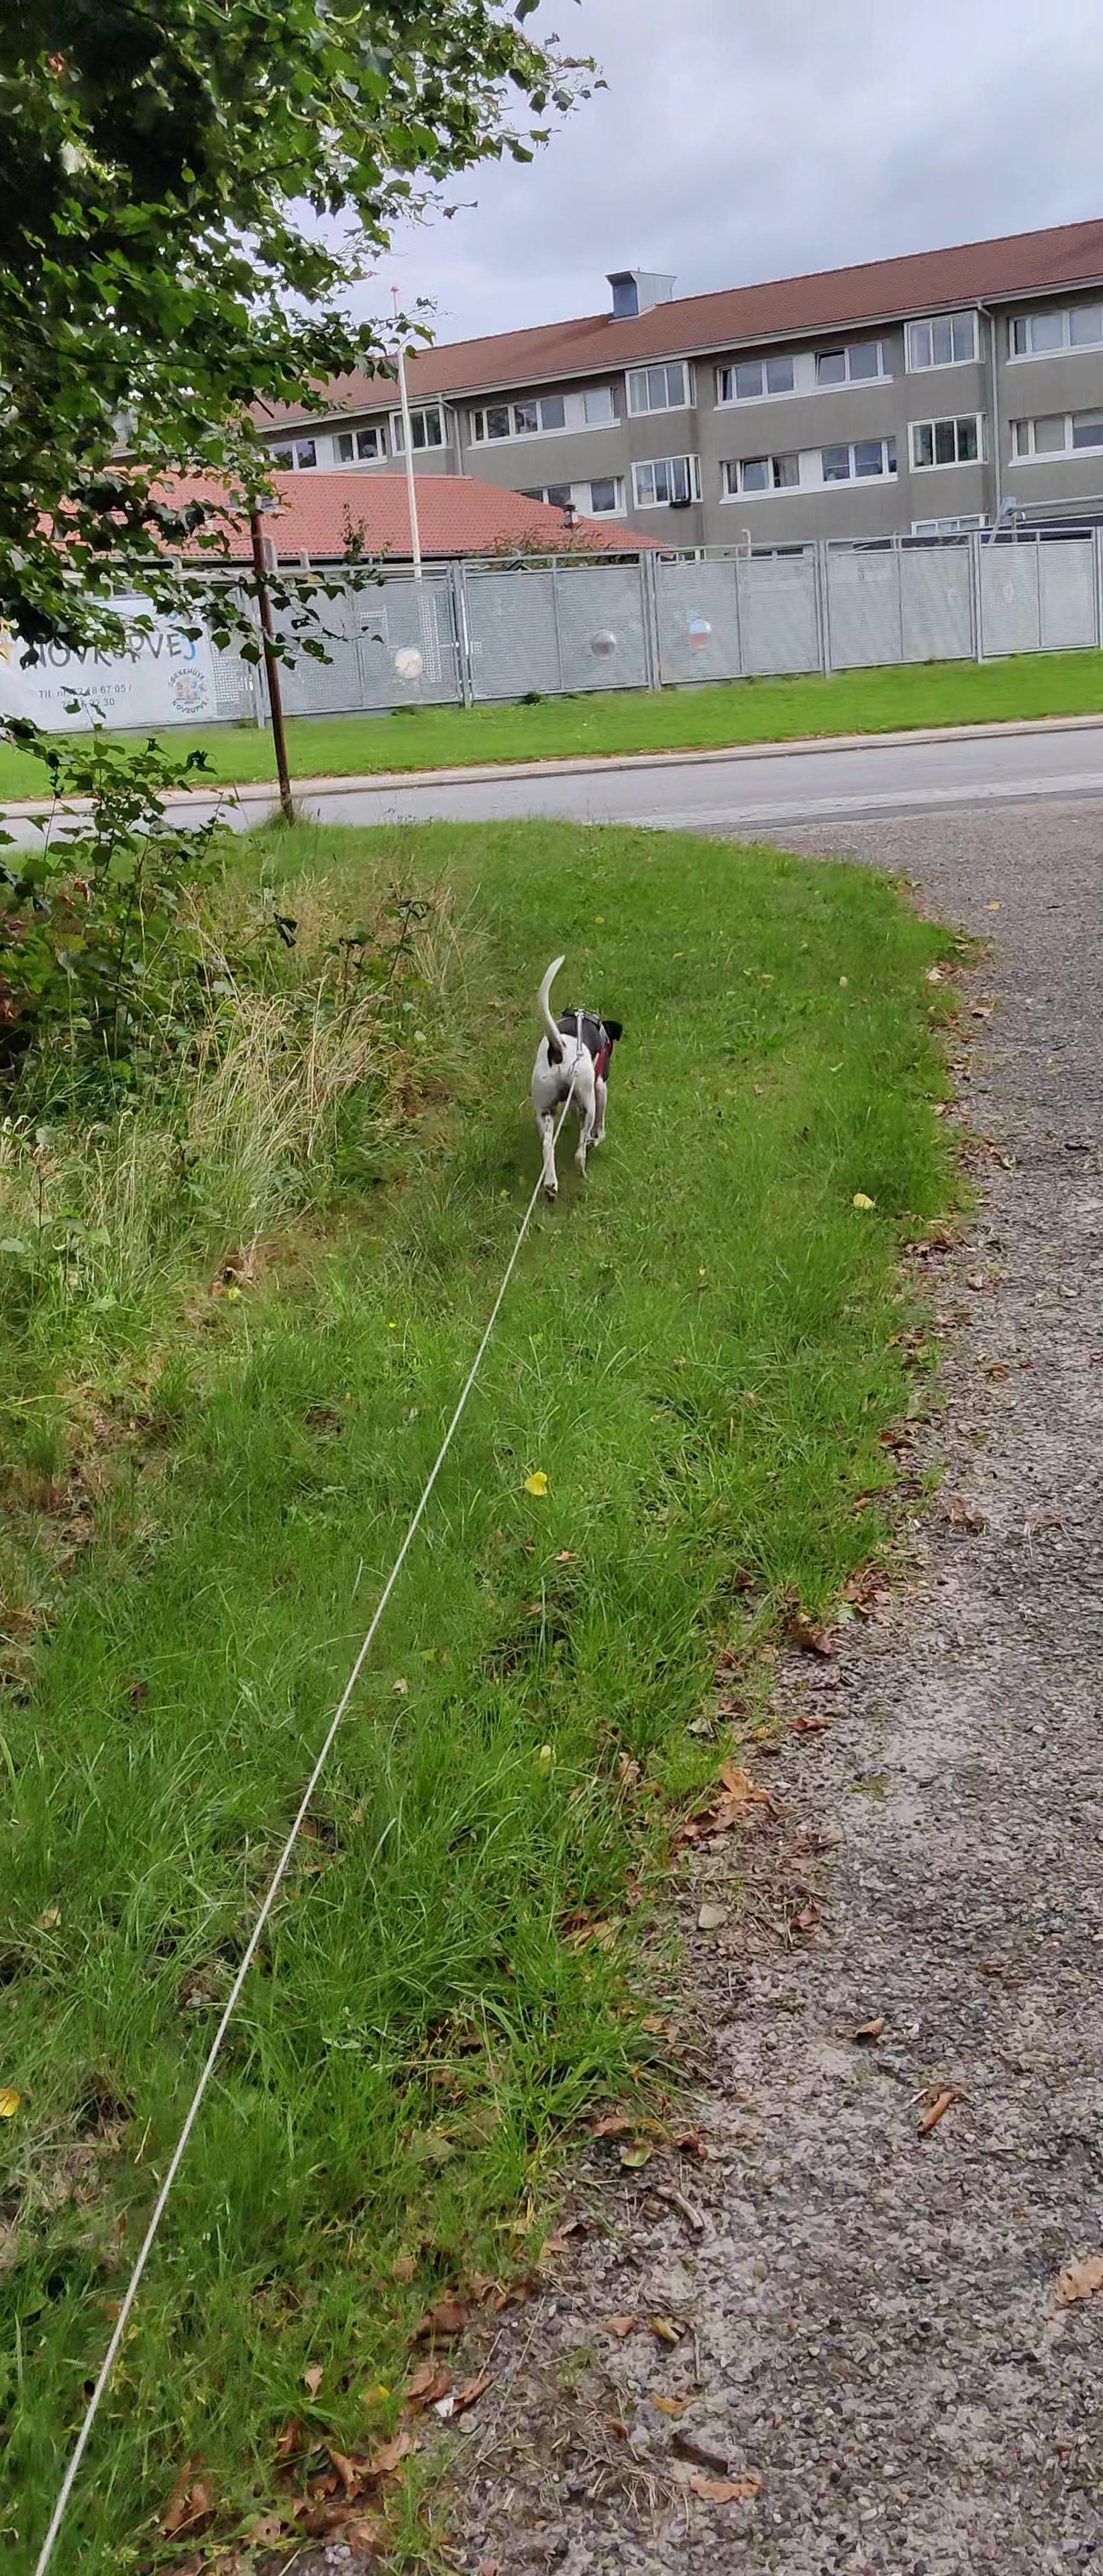Dog: (526, 950, 625, 1209)
